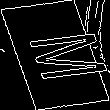M_E: (5, 27, 105, 83)
